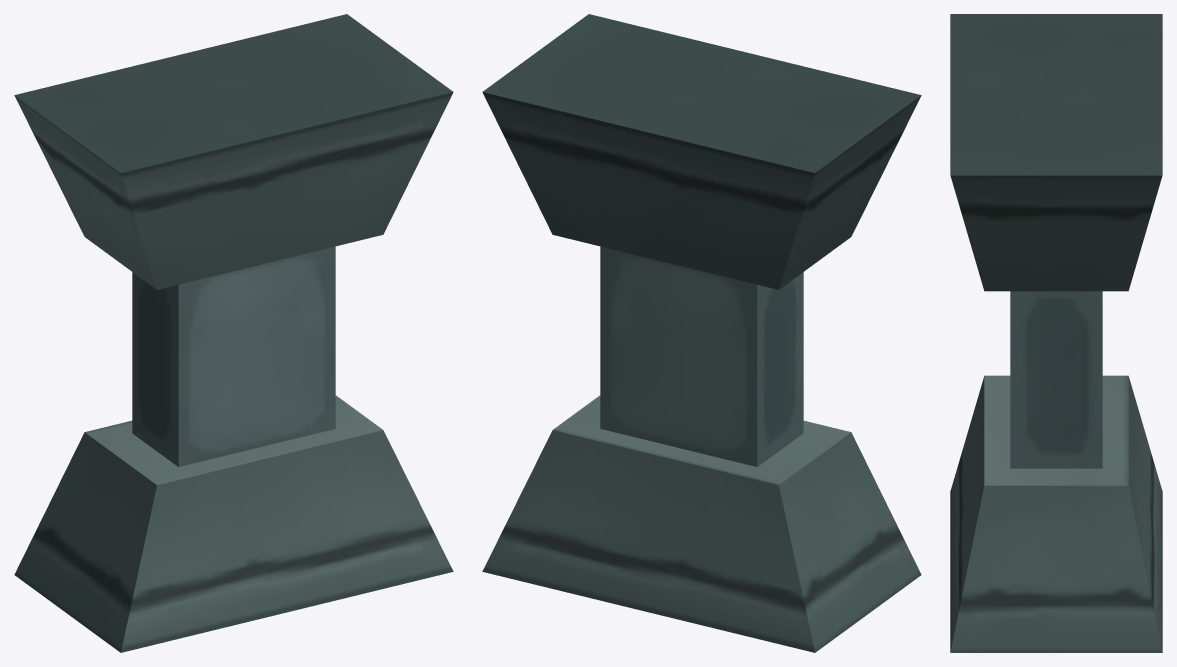
File: Dg_01_StoneObjects_013.FBX
The picture shows the model from 3 angles, left to right: view 1: azimuth 30°, elevation 25°; view 2: azimuth 150°, elevation 25°; view 3: azimuth 270°, elevation 25°; orthographic projection.
Parts seen in each view (by area): view 1: Dg_01_StoneObjects_013; view 2: Dg_01_StoneObjects_013; view 3: Dg_01_StoneObjects_013.
Boxes of the visible parts, left/top/right/bottom form: Dg_01_StoneObjects_013: left=14, top=14, right=453, bottom=652; Dg_01_StoneObjects_013: left=482, top=14, right=921, bottom=652; Dg_01_StoneObjects_013: left=950, top=14, right=1162, bottom=652.
Bounding box in the file's own units: 0.5444 × 0.75 × 0.302.
